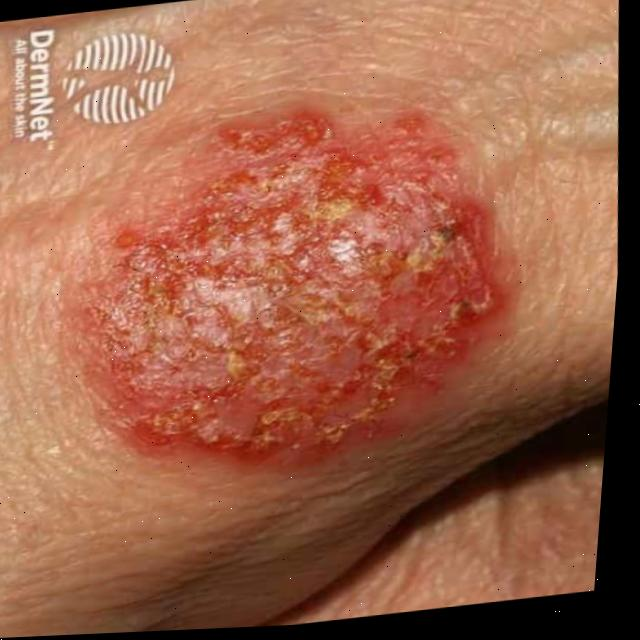Eczema: (119, 115, 507, 480)
